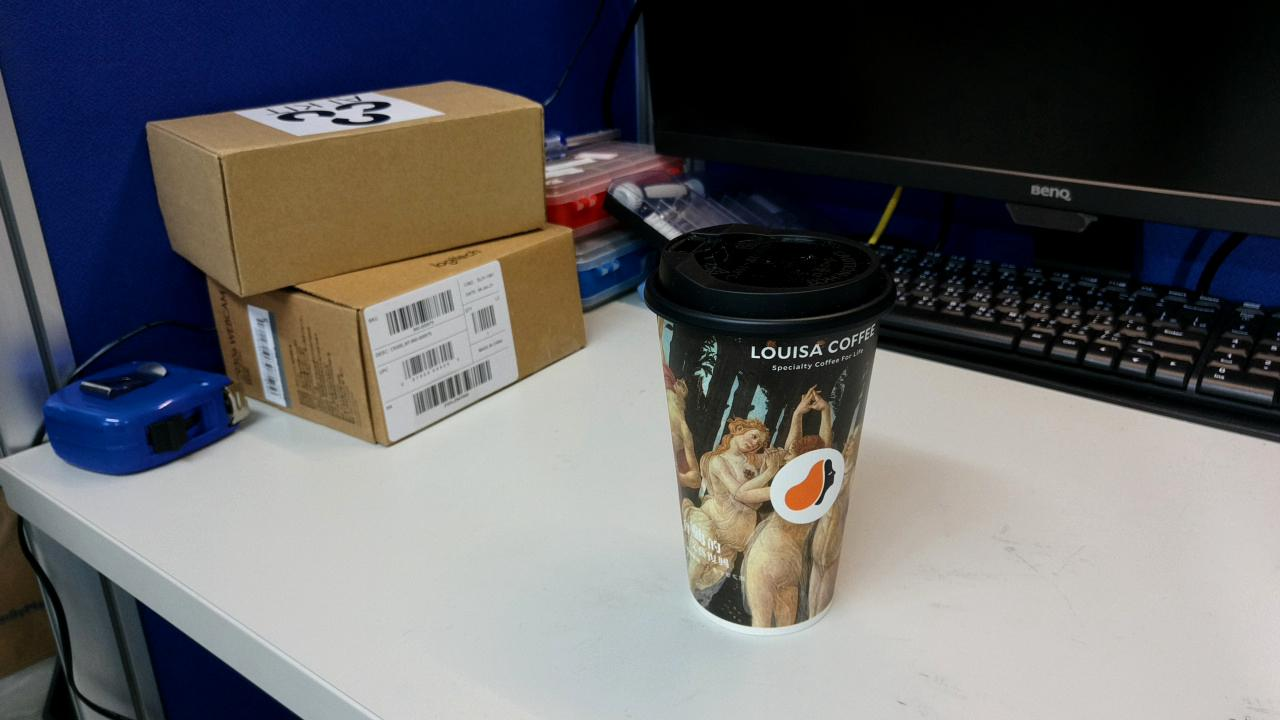columnar: (447, 120, 705, 697)
